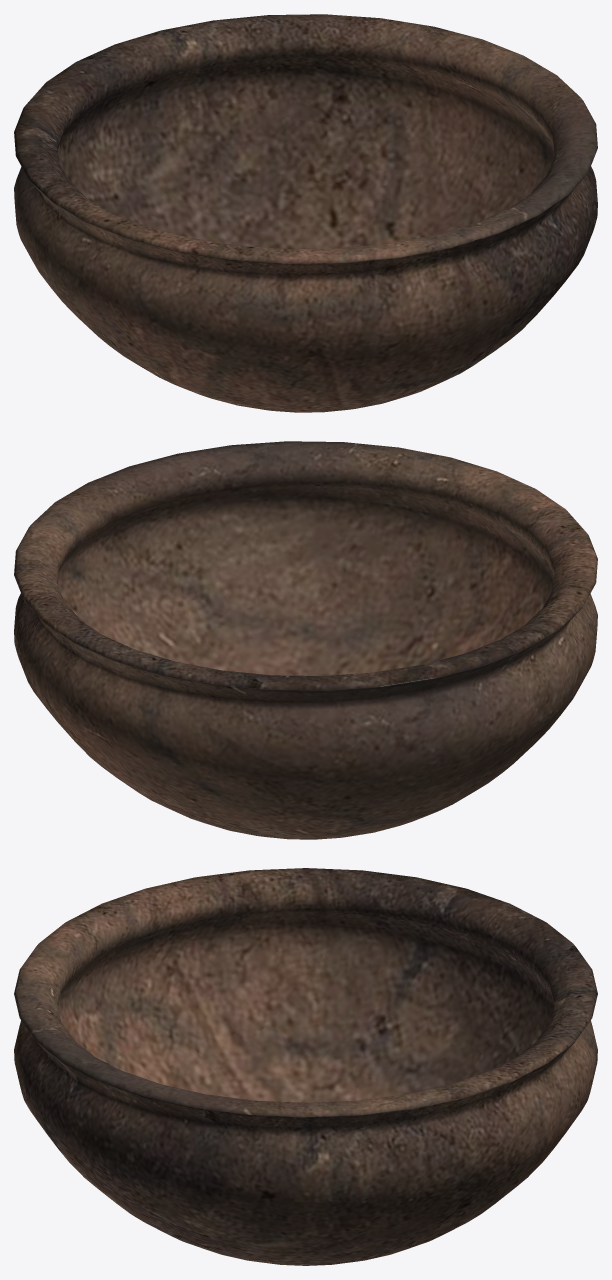
The model's file is ceramica.glb.
3 views of the same model, one above another, from view 1: azimuth 30°, elevation 25°; view 2: azimuth 150°, elevation 25°; view 3: azimuth 270°, elevation 25° (orthographic).
Visible parts, largest first — view 1: Cube_3; view 2: Cube_3; view 3: Cube_3.
Boxes of the visible parts, <box> form: Cube_3: <box>14,14,597,412</box>; Cube_3: <box>14,441,597,839</box>; Cube_3: <box>14,868,597,1265</box>.
Size of the model in its own units: 3.74 by 1.76 by 3.74.
Materials: 1 (1 with a texture image).
